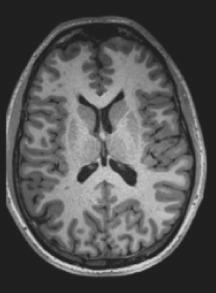Normal_Brain: (2, 1, 216, 293)
